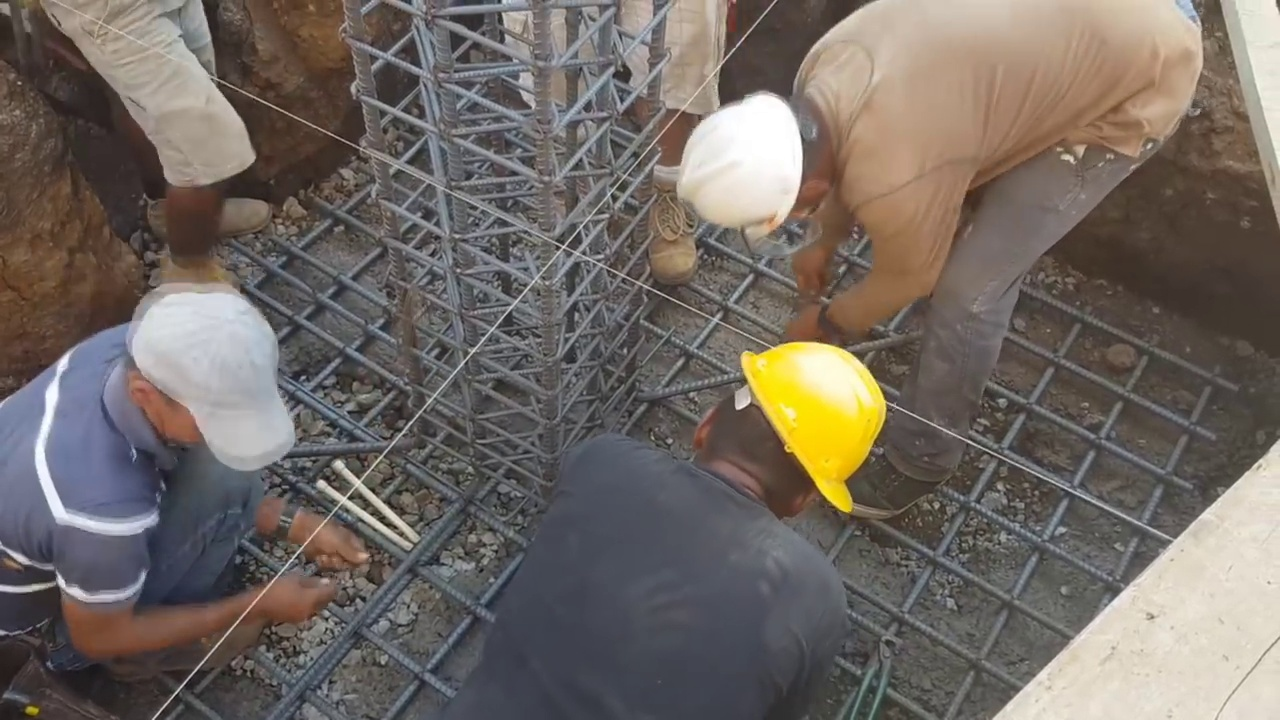helmet: (740, 337, 885, 516), (681, 85, 801, 237)
helmet-off: (123, 266, 289, 486)
helmet-on: (681, 334, 884, 519), (681, 80, 841, 251)
person: (678, 0, 1223, 519), (430, 334, 885, 709), (0, 269, 371, 699), (493, 2, 727, 299), (30, 0, 272, 268)
